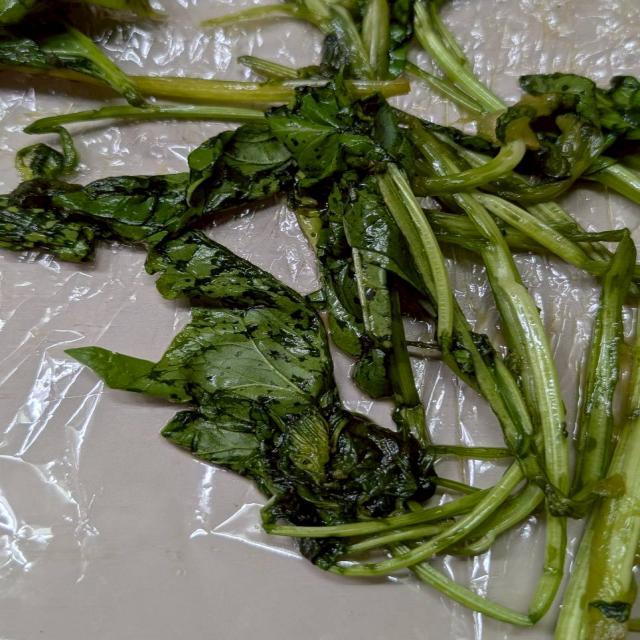rotten spinach: (4, 8, 640, 618), (30, 11, 640, 626), (89, 151, 504, 585), (267, 246, 640, 627), (162, 28, 516, 317)
